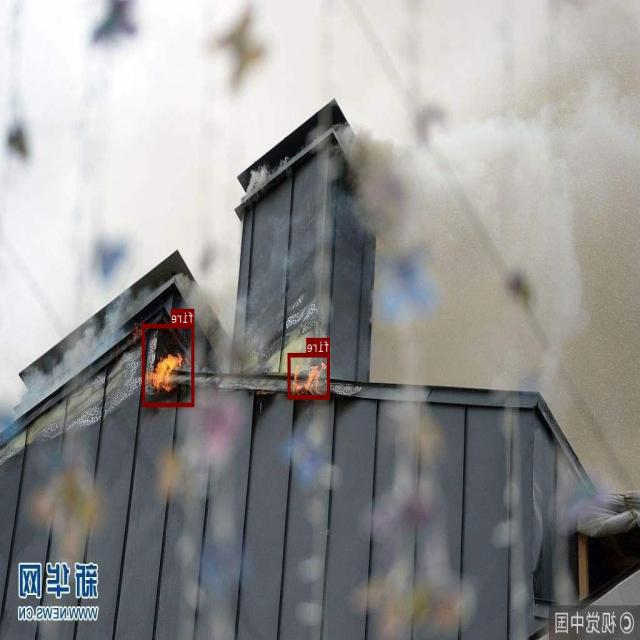fire: (143, 323, 195, 406), (288, 353, 330, 398)
